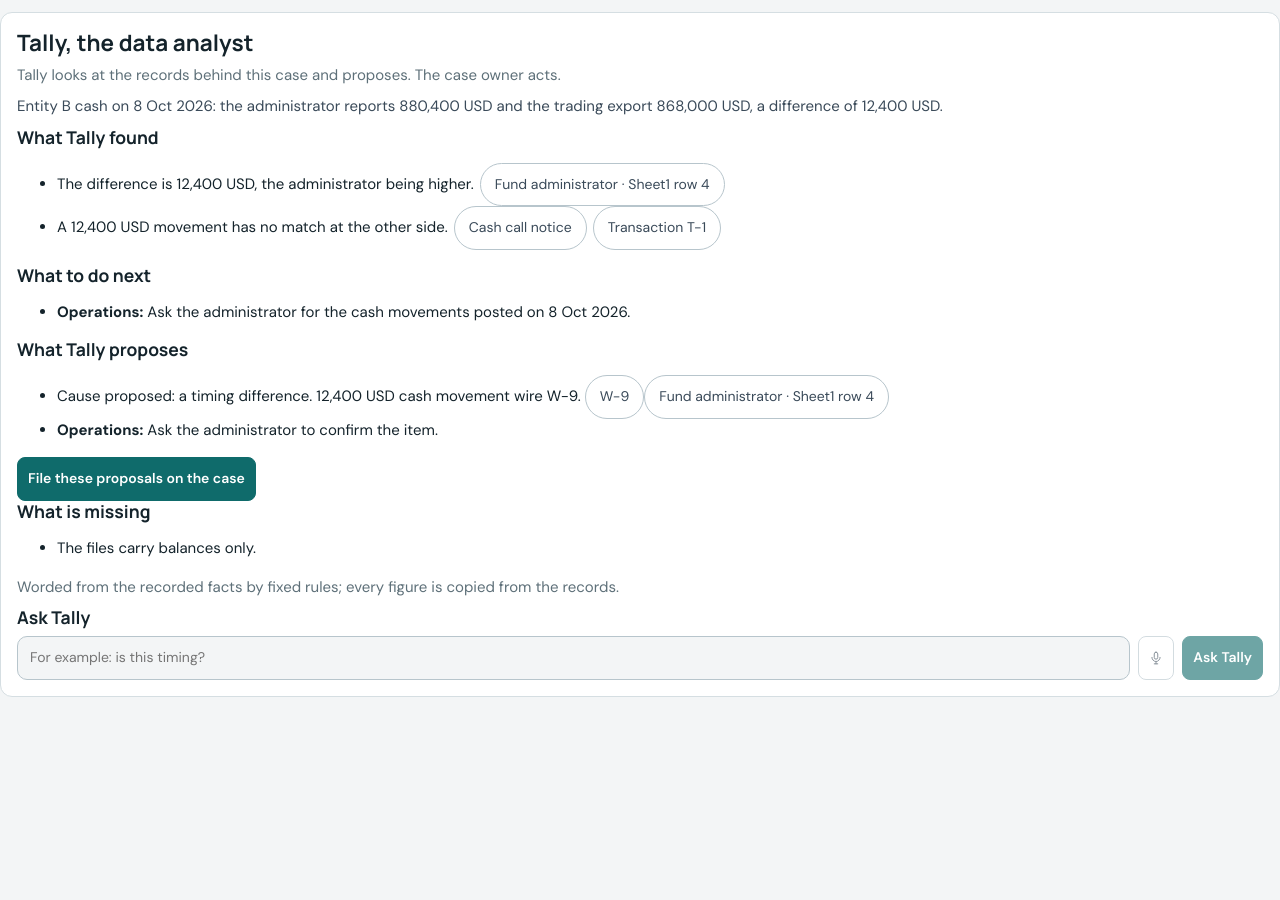
the case owner files the proposals through the explain route; the proposals show the item and source chip
The width and height of the screenshot is (1280, 900).
Check: the text "W-9" is shown, box [585,375,644,419]
Check: the text "Fund administrator · Sheet1 row 4" is shown, box [644,375,889,419]
What coordinates should you click on to do the following:
click the button "File these proposals on the case"
I would click on:
 (136, 479)
Its box is [17,457,256,501].
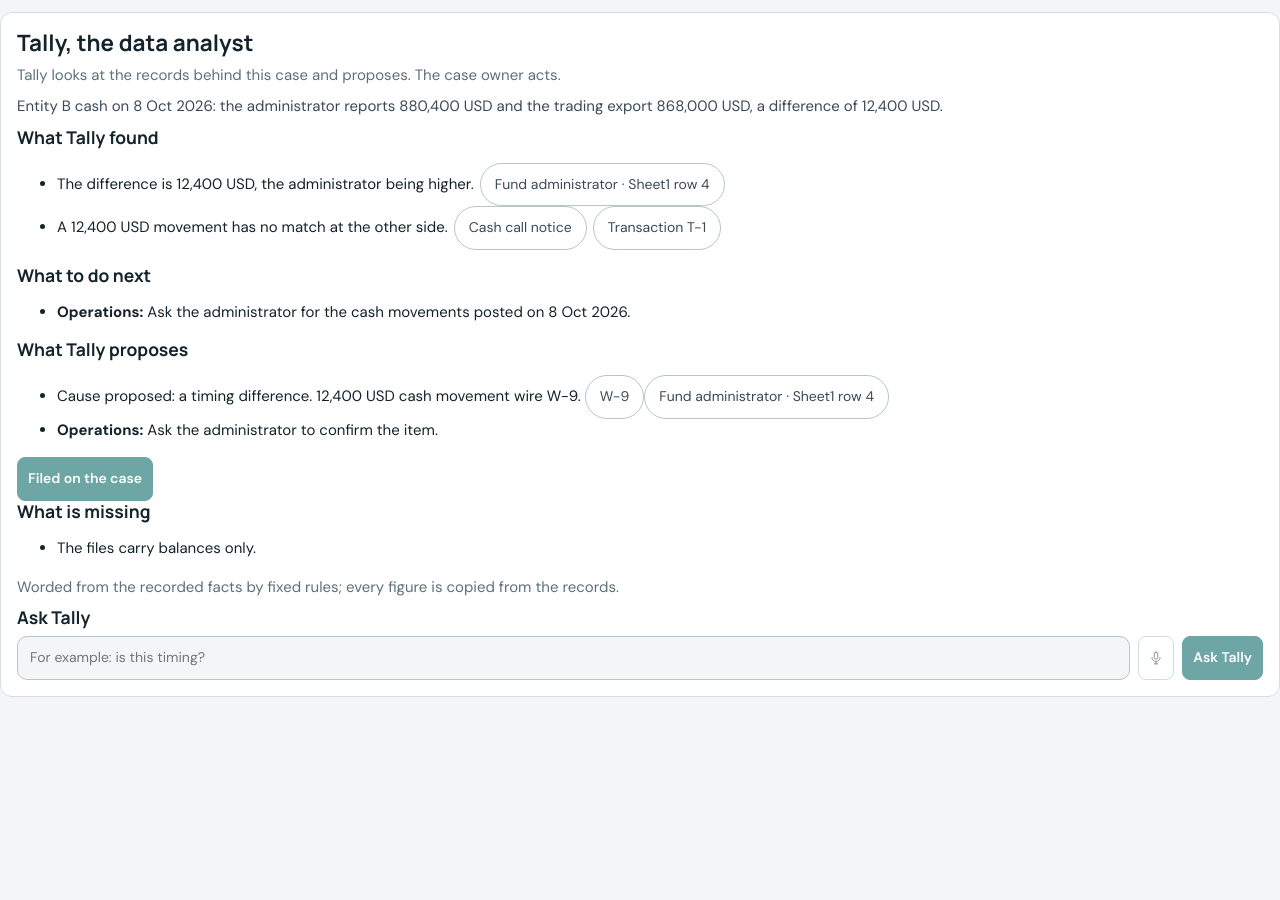
Check: the button "Filed on the case" is disabled, box [17,457,153,501]
